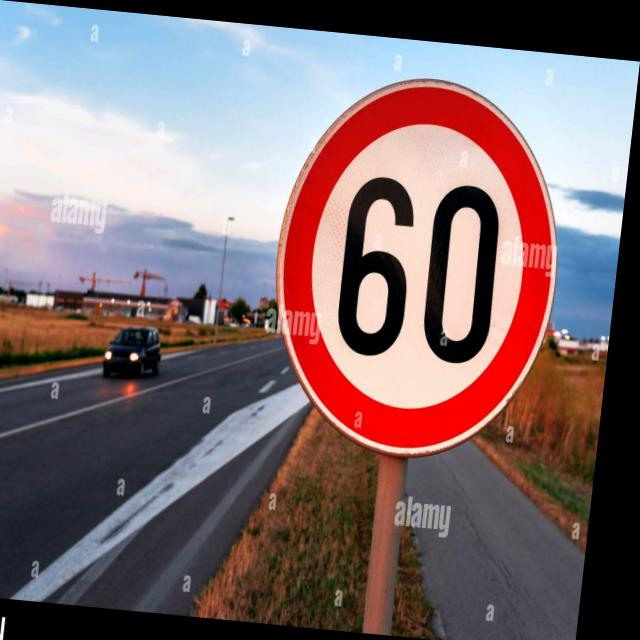SPEED_LIMIT_60: (269, 59, 580, 455)
